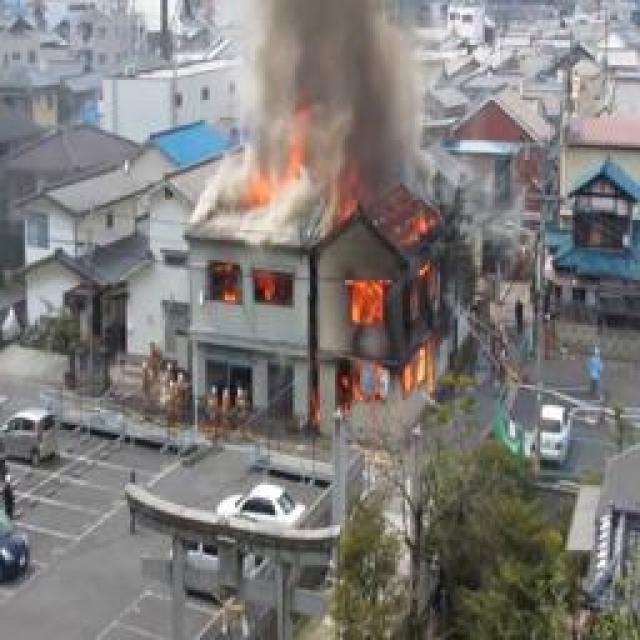Fire: (340, 221, 438, 407), (205, 261, 293, 312)
